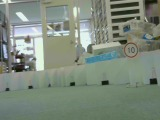speed_10: (122, 42, 140, 58)
